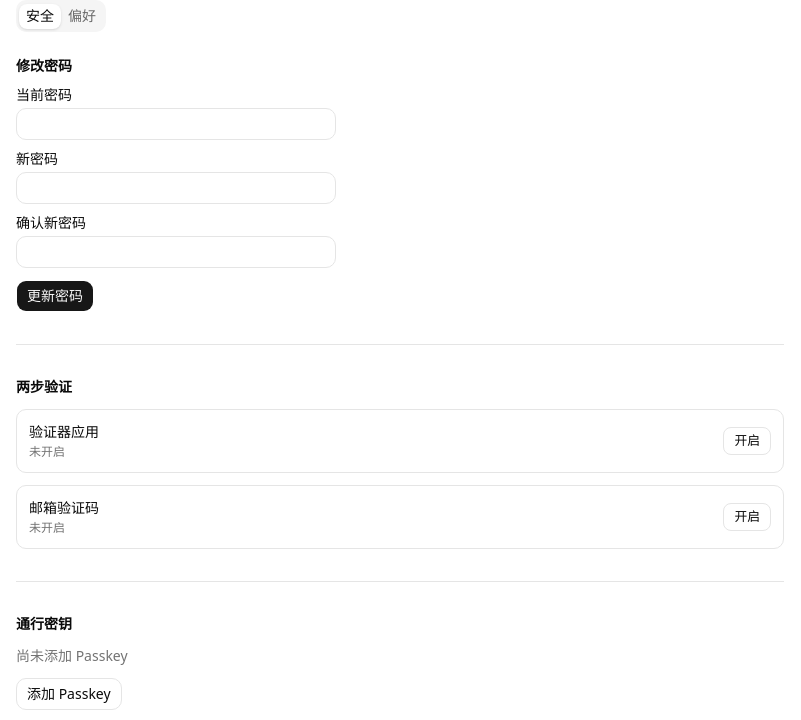
设置页 › 已保存的时区不在常用列表时自动补到最前
The width and height of the screenshot is (801, 720).
Click the tab "偏好": [82, 16] box [61,4,103,28]
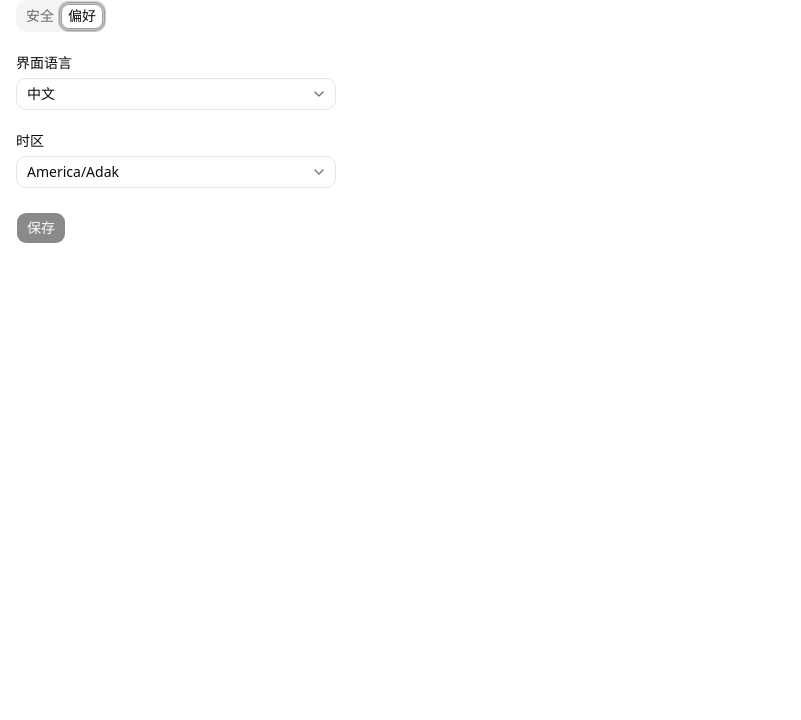
Click the dropdown named "时区": [73, 172] box [16,156,336,188]
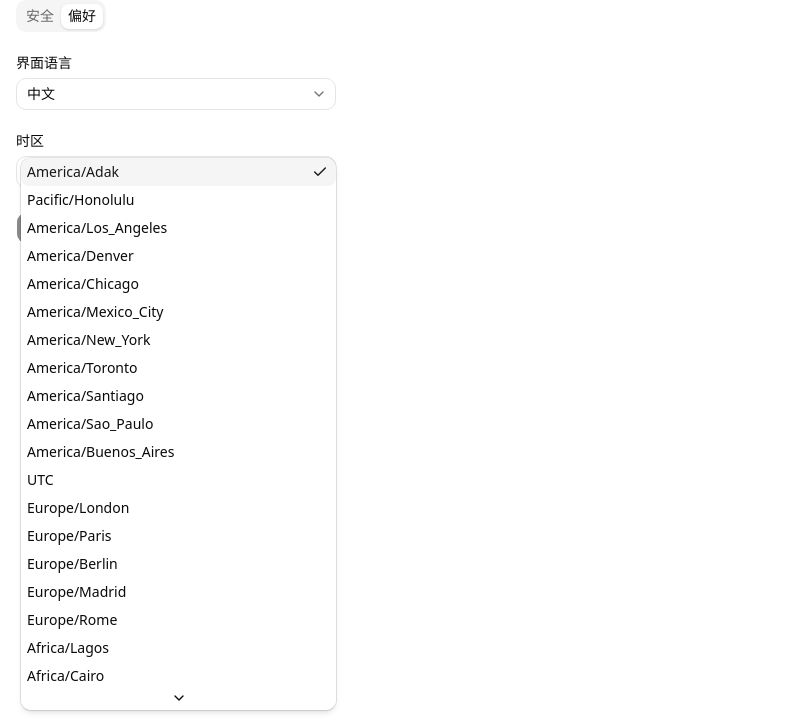
expect the option "America/Adak" is shown: met, box [21,158,336,186]
